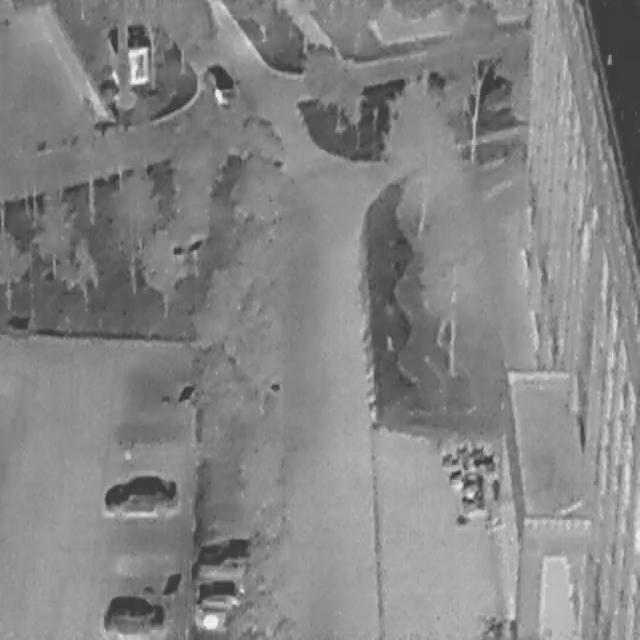Bicycle: (479, 612, 507, 638), (458, 488, 487, 512), (462, 441, 486, 465), (437, 446, 465, 465), (468, 450, 495, 469), (446, 465, 473, 484), (458, 470, 485, 489)
Car: (102, 472, 180, 516), (100, 592, 167, 638), (194, 575, 260, 615), (192, 535, 263, 570)
